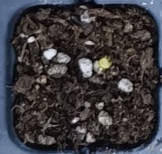pepper seed: (41, 20, 154, 90)
